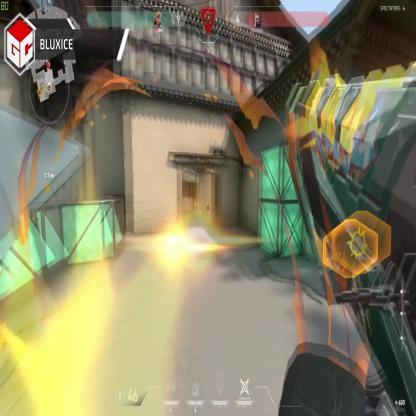enemy: (192, 199, 198, 226)
enemy_head: (193, 200, 196, 204)
